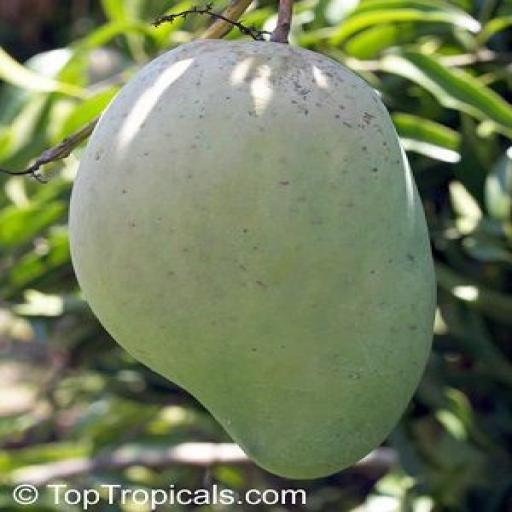mango: (70, 41, 435, 478)
